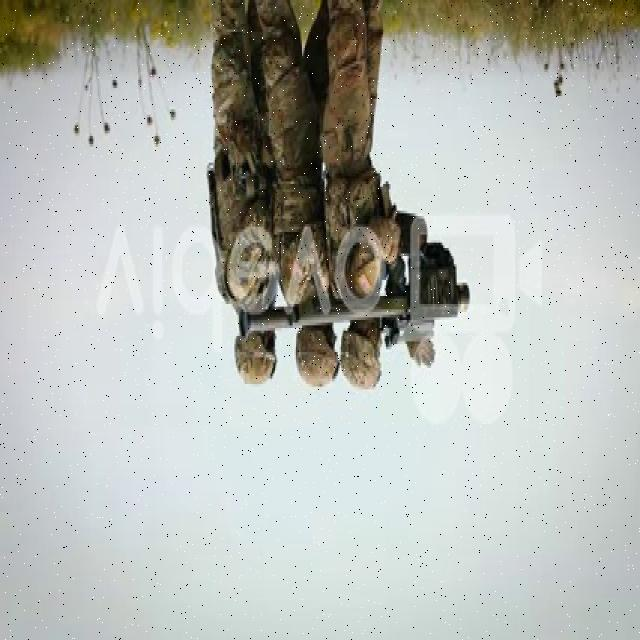bazooka: (238, 236, 475, 348)
